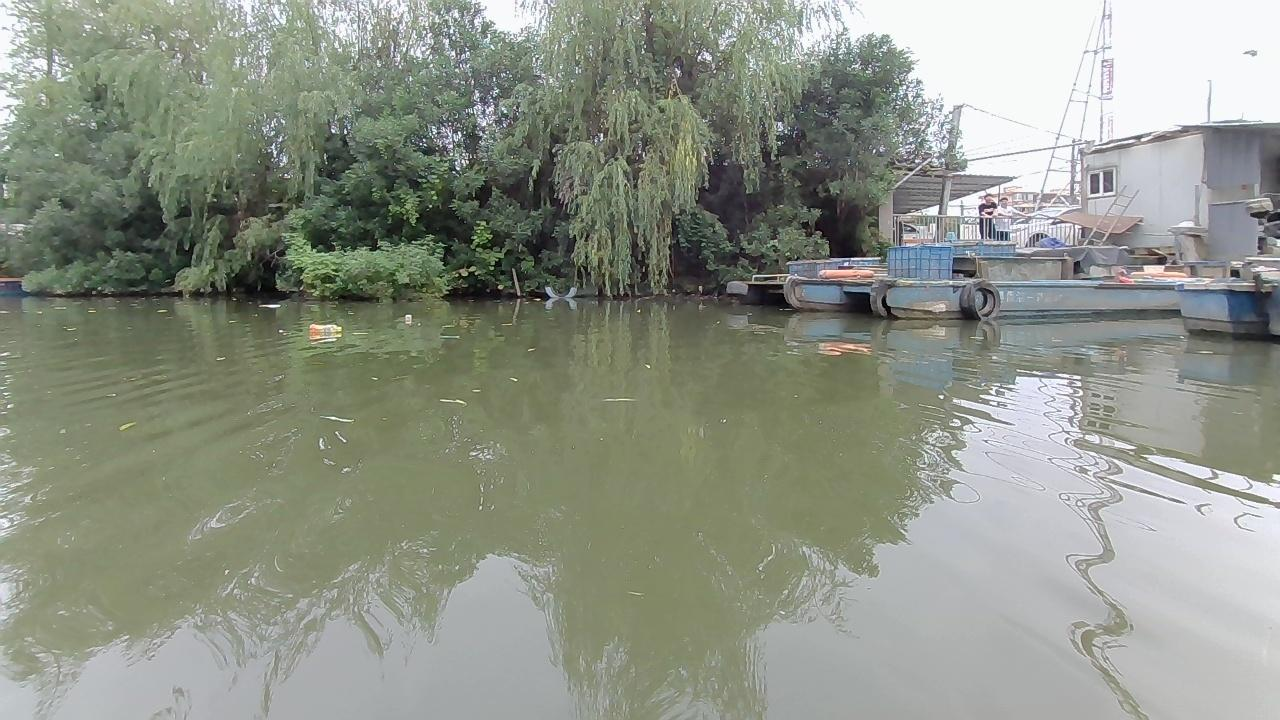bottle: (304, 323, 341, 336), (402, 312, 413, 324)
